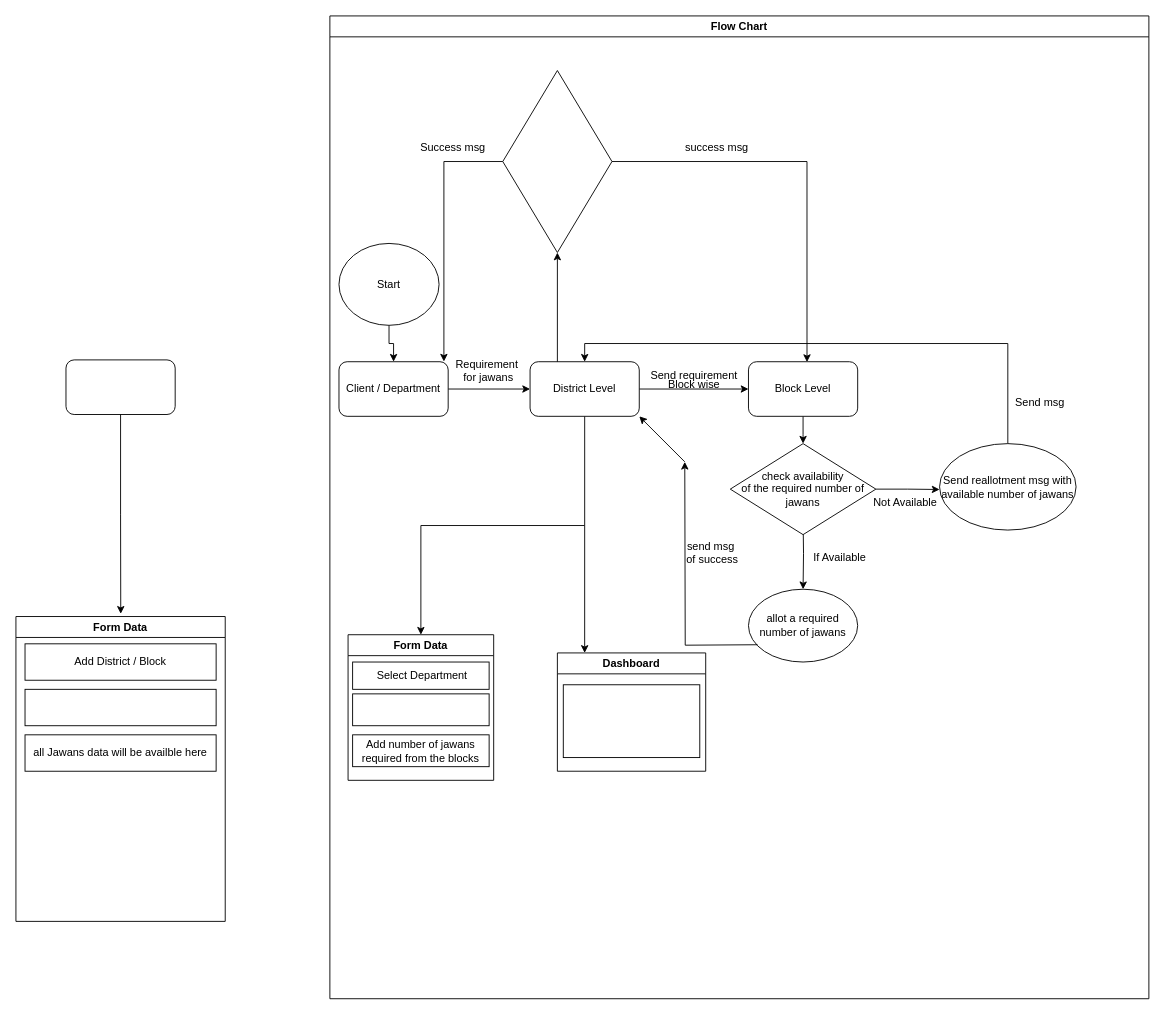
Image size: 1165x1015. Some labels were removed from this diagram. Here are the shapes that lost their labels. From the top down, the centre of each, then its label:
At [557,161]: "successfully alloted Required jawans".
At [120,387]: "Master Level".
At [120,707]: "Reg. PRD jawan according to blocks".
At [420,709]: "Add Department".
At [631,721]: "Show all details of jawans".
